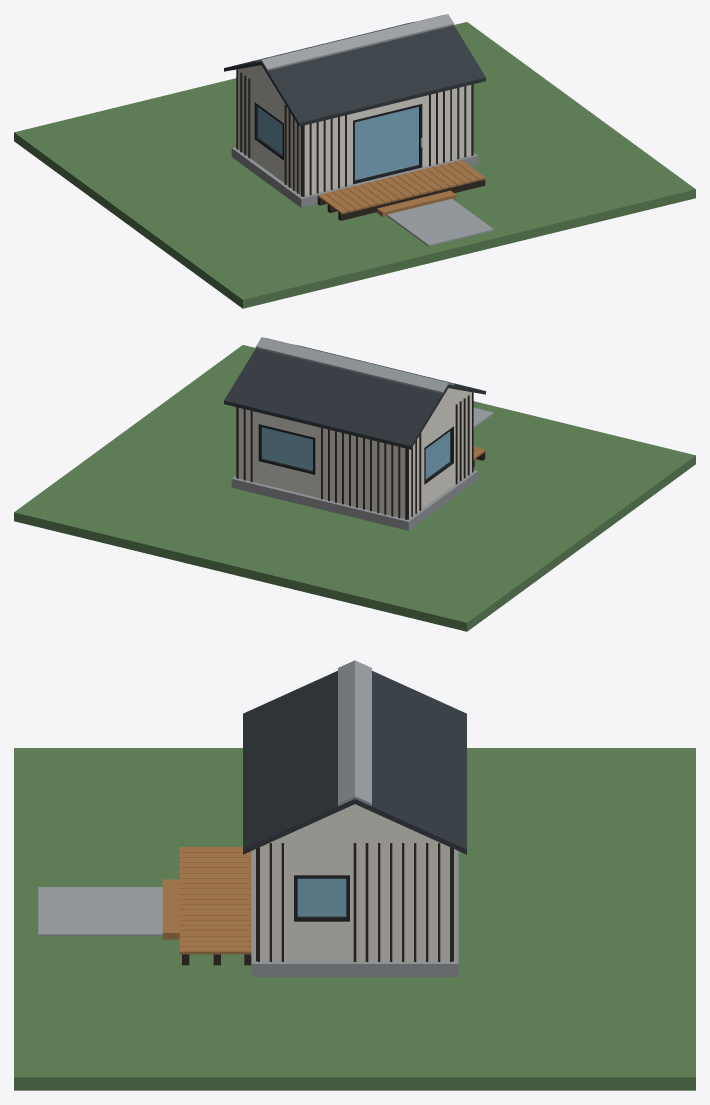
Rendered from garden-studio-colored.glb.
The picture shows the model from 3 angles, top to bottom: view 1: azimuth 30°, elevation 25°; view 2: azimuth 150°, elevation 25°; view 3: azimuth 270°, elevation 25°; orthographic projection. The views are drawn at different scales.
Parts seen in each view (by area): view 1: Terrain, Roof_South, Wall_Front, Wall_West, Door_Front_Glass, Path, Roof_Ridge, Foundation_Slab, Window_West_Glass, Deck_Joist_01, Entry_Step; view 2: Terrain, Roof_North, Wall_Rear, Wall_West, Foundation_Slab, Roof_Ridge, Window_Rear_Glass, Window_West_Glass; view 3: Terrain, Wall_East, Roof_South, Roof_North, Path, Roof_Ridge, Foundation_Slab, Window_East_Glass, Entry_Step, Deck_Board_20.
Part boxes in pixels (bbox=[...]): Terrain: bbox=[14, 22, 695, 308]; Roof_South: bbox=[261, 25, 485, 126]; Wall_Front: bbox=[308, 85, 467, 195]; Wall_West: bbox=[238, 65, 307, 195]; Door_Front_Glass: bbox=[355, 107, 418, 180]; Path: bbox=[387, 199, 493, 246]; Roof_Ridge: bbox=[255, 14, 454, 70]; Foundation_Slab: bbox=[231, 147, 478, 207]; Window_West_Glass: bbox=[258, 107, 282, 154]; Deck_Joist_01: bbox=[338, 179, 485, 220]; Entry_Step: bbox=[377, 190, 456, 216]; Terrain: bbox=[14, 345, 695, 631]; Roof_North: bbox=[224, 348, 448, 449]; Wall_Rear: bbox=[242, 408, 401, 518]; Wall_West: bbox=[402, 388, 471, 518]; Foundation_Slab: bbox=[231, 470, 478, 530]; Roof_Ridge: bbox=[255, 337, 454, 393]; Window_Rear_Glass: bbox=[262, 427, 312, 470]; Window_West_Glass: bbox=[425, 431, 450, 478]; Terrain: bbox=[14, 748, 695, 1090]; Wall_East: bbox=[260, 804, 449, 961]; Roof_South: bbox=[243, 671, 354, 854]; Roof_North: bbox=[355, 671, 466, 854]; Path: bbox=[38, 887, 162, 936]; Roof_Ridge: bbox=[338, 660, 371, 806]; Foundation_Slab: bbox=[251, 849, 458, 976]; Window_East_Glass: bbox=[297, 878, 346, 916]; Entry_Step: bbox=[162, 879, 179, 939]; Deck_Board_20: bbox=[179, 946, 251, 954].
Bounding box in the file's own units: 16 × 4.48 × 14.
